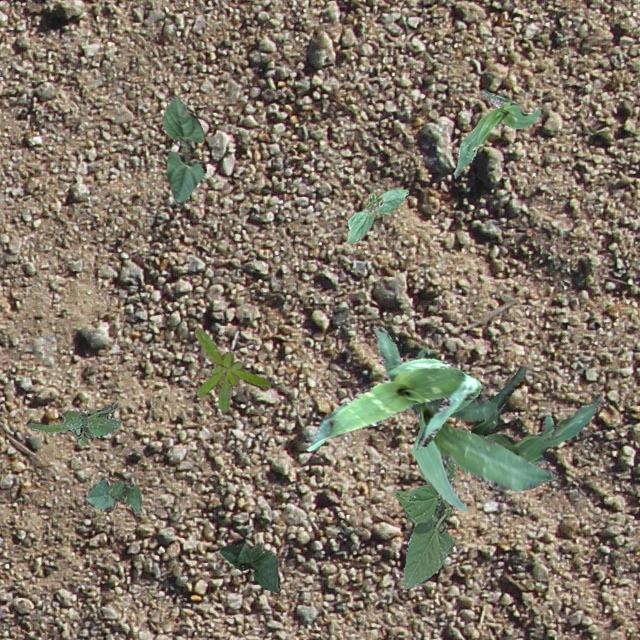crop: (411, 346, 556, 509), (306, 324, 480, 450), (470, 364, 600, 464), (394, 460, 456, 588), (452, 89, 540, 178), (162, 94, 206, 204), (347, 188, 408, 242), (218, 540, 278, 592), (84, 476, 140, 514)
weed: (194, 326, 270, 412), (26, 400, 120, 444)
